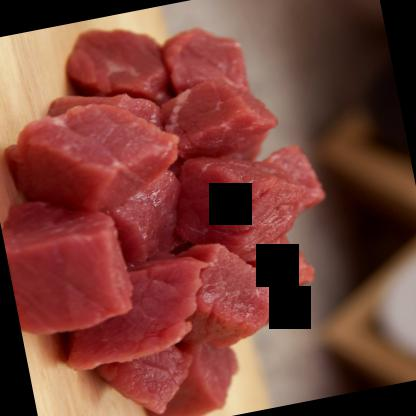beef: (0, 93, 182, 221), (0, 187, 142, 346), (52, 249, 215, 368), (166, 140, 302, 263), (150, 234, 274, 356), (158, 71, 282, 167), (128, 331, 251, 415), (58, 18, 172, 106), (155, 21, 255, 108), (95, 339, 199, 415)
